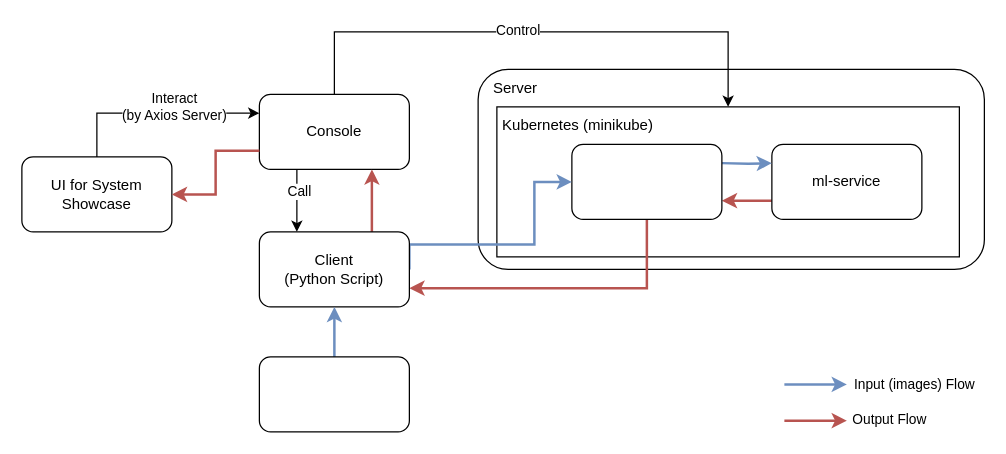
Some shapes in this 1006 by 454 pixel diagram are drawn without their labels. The shapes that lost their labels are listed below. From the top down, each one's centre as x and y in pixels, then its label:
pixel 646 181: Redis
pixel 333 394: Local File System (images)
